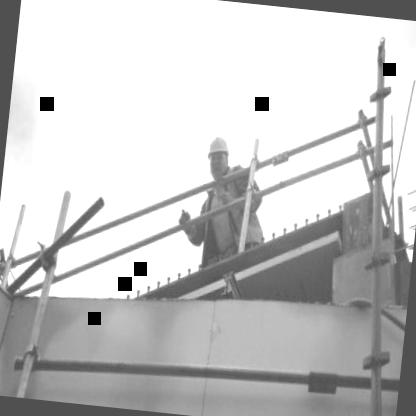helmet: (201, 129, 235, 181)
